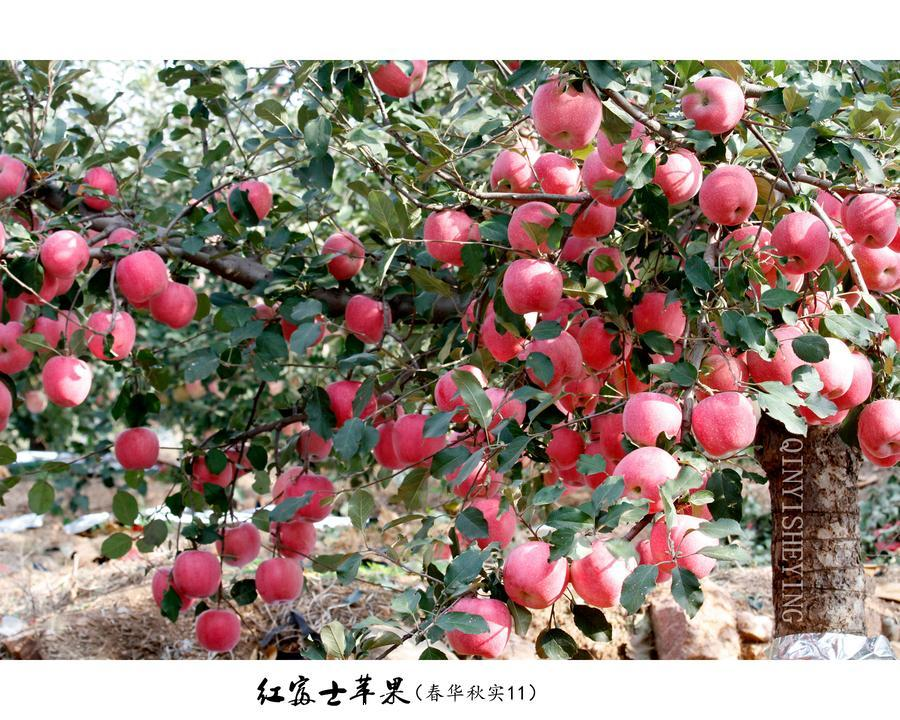apple: (113, 249, 197, 329), (529, 75, 600, 150), (569, 536, 636, 606), (504, 539, 571, 609), (650, 511, 717, 576), (691, 394, 759, 458), (612, 447, 677, 512), (768, 210, 832, 274), (697, 163, 758, 226), (679, 75, 742, 133), (839, 189, 897, 250), (500, 257, 561, 315), (621, 392, 681, 447), (423, 206, 478, 265), (113, 251, 171, 305), (214, 178, 271, 230), (648, 151, 702, 204), (38, 229, 89, 280), (41, 355, 91, 407), (360, 58, 424, 98), (147, 281, 196, 328), (489, 147, 539, 192), (343, 293, 387, 343), (320, 231, 364, 280), (532, 152, 581, 196), (113, 426, 159, 469), (237, 179, 272, 220)
